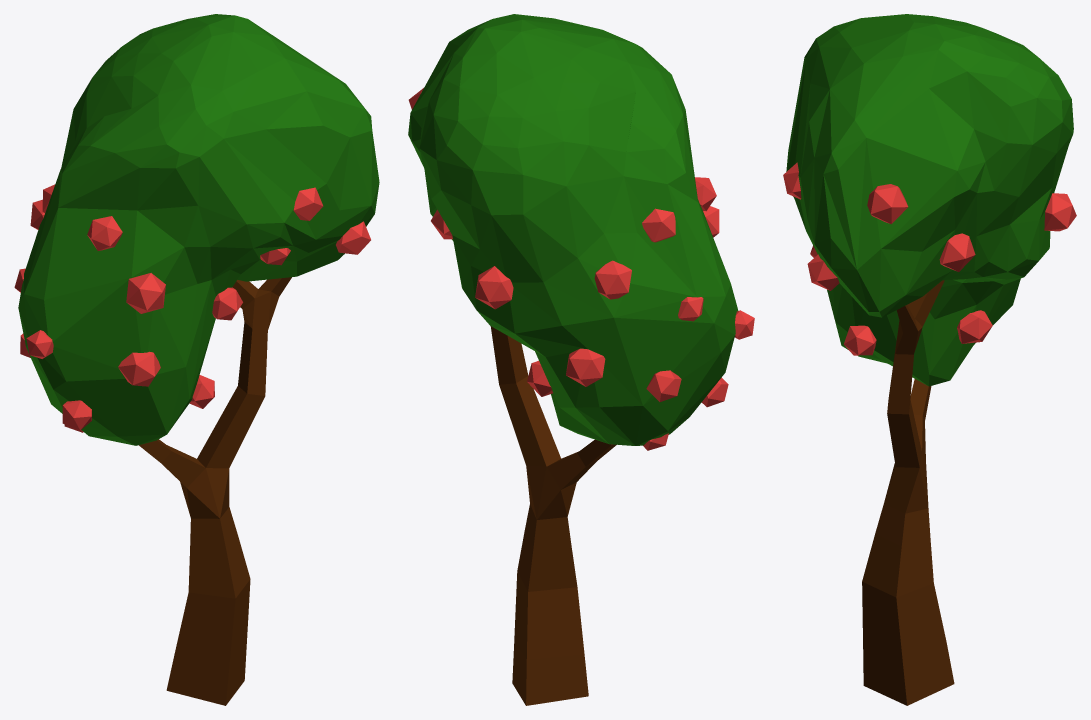
The model's file is apple_tree.glb.
The picture shows the model from 3 angles, left to right: view 1: azimuth 30°, elevation 25°; view 2: azimuth 150°, elevation 25°; view 3: azimuth 270°, elevation 25°; orthographic projection. The views are drawn at different scales.
Visible parts, largest first — view 1: tree, apple.012, apple.003, apple.017, apple.004, apple.013, apple.008, apple.018, apple.002, apple.001; view 2: tree, apple.006, apple.007, apple.015, apple.016, apple.010, apple.020; view 3: tree, apple.019, apple.006, apple.005, apple.020, apple.001, apple.004.
Part boxes in pixels (box(x1,y1,x2,y2)): tree: box(18, 14, 379, 705); apple.012: box(126, 273, 165, 313); apple.003: box(118, 351, 160, 386); apple.017: box(87, 216, 122, 250); apple.004: box(336, 221, 370, 254); apple.013: box(212, 287, 242, 320); apple.008: box(62, 400, 91, 430); apple.018: box(293, 187, 323, 220); apple.002: box(26, 330, 53, 358); apple.001: box(189, 375, 214, 408); tree: box(408, 14, 738, 705); apple.006: box(475, 266, 513, 309); apple.007: box(566, 348, 605, 386); apple.015: box(594, 260, 631, 299); apple.016: box(642, 208, 675, 242); apple.010: box(646, 370, 681, 401); apple.020: box(527, 360, 552, 396); tree: box(786, 14, 1073, 705); apple.019: box(867, 184, 908, 224); apple.006: box(1044, 193, 1076, 231); apple.005: box(939, 233, 975, 271); apple.020: box(957, 310, 992, 343); apple.001: box(843, 325, 876, 355); apple.004: box(807, 254, 839, 290).
Size of the model in its own units: 1.14 by 2.13 by 0.8467.
